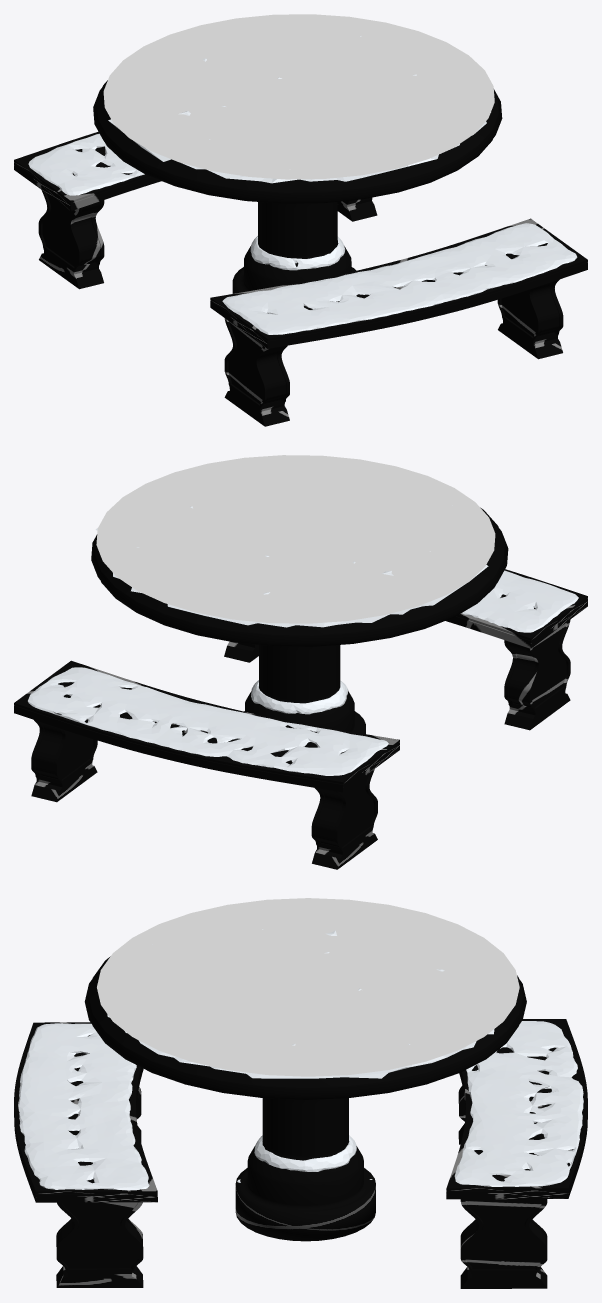
File: table.fbx
3 views of the same model, one above another, from view 1: azimuth 30°, elevation 25°; view 2: azimuth 150°, elevation 25°; view 3: azimuth 270°, elevation 25° (orthographic). The views are drawn at different scales.
Visible parts, largest first — view 1: Circle.001, Cylinder.002, SnowBall.006, stone bench.004, stone bench.005, SnowBall.005, SnowBall.008, SnowBall.007; view 2: Circle.001, SnowBall.005, Cylinder.002, stone bench.005, stone bench.004, SnowBall.006, SnowBall.008, SnowBall.007; view 3: Circle.001, Cylinder.002, SnowBall.006, SnowBall.005, stone bench.005, stone bench.004, SnowBall.008, SnowBall.007.
Boxes of the visible parts, x1,y1,x2,y2 form: Circle.001: [103, 14, 494, 179]; Cylinder.002: [93, 80, 502, 293]; SnowBall.006: [222, 223, 577, 334]; stone bench.004: [210, 218, 587, 426]; stone bench.005: [14, 131, 377, 289]; SnowBall.005: [28, 133, 144, 195]; SnowBall.008: [250, 236, 345, 270]; SnowBall.007: [108, 36, 486, 183]; Circle.001: [96, 455, 495, 623]; SnowBall.005: [28, 667, 388, 775]; Cylinder.002: [91, 507, 508, 734]; stone bench.005: [14, 660, 399, 869]; stone bench.004: [224, 569, 587, 730]; SnowBall.006: [462, 570, 578, 632]; SnowBall.008: [251, 680, 348, 714]; SnowBall.007: [95, 505, 488, 627]; Circle.001: [97, 898, 519, 1076]; Cylinder.002: [84, 956, 526, 1241]; SnowBall.006: [18, 1023, 149, 1190]; SnowBall.005: [454, 1021, 583, 1186]; stone bench.005: [446, 1019, 587, 1288]; stone bench.004: [14, 1022, 157, 1287]; SnowBall.008: [237, 1135, 372, 1182]; SnowBall.007: [107, 929, 494, 1078].
Size of the model in its own units: 250 by 141 by 324.
Materials: 4 (2 with a texture image).
